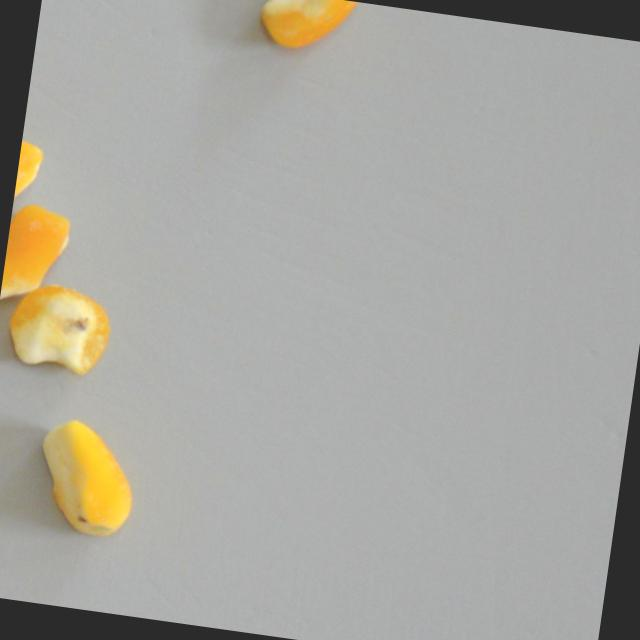estandar: (0, 190, 76, 318), (11, 131, 45, 223)
punto_negro: (28, 412, 147, 543), (0, 276, 120, 381), (252, 0, 368, 61)
